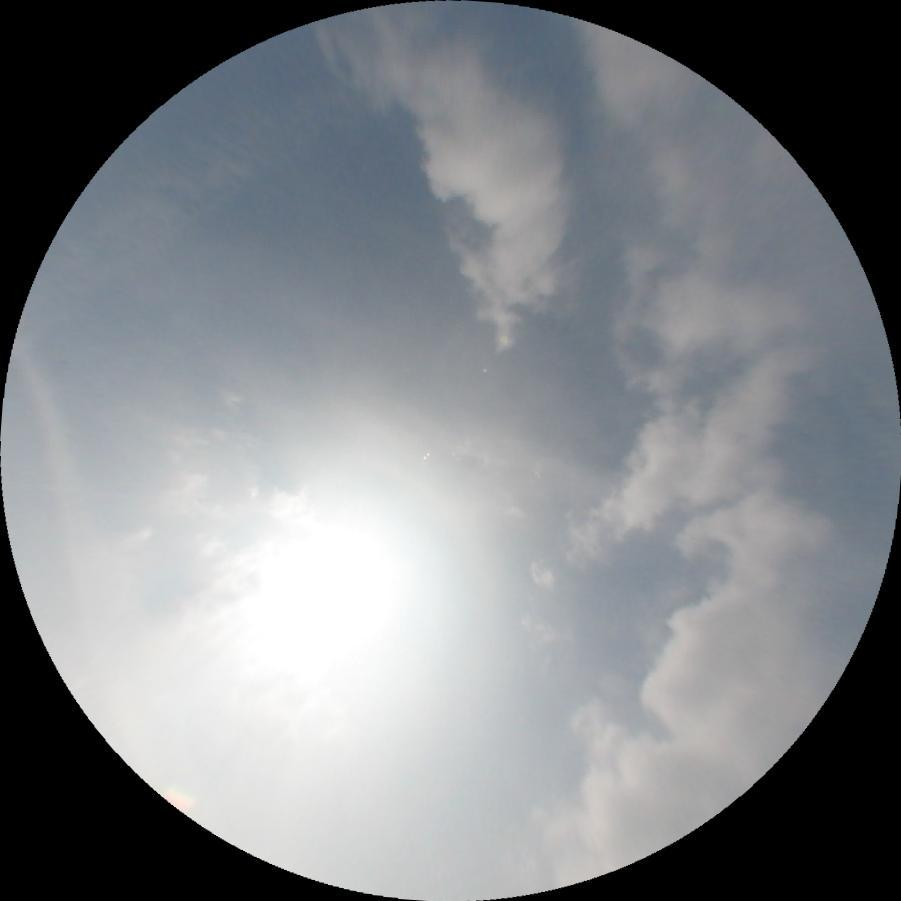sun: (258, 511, 415, 639)
